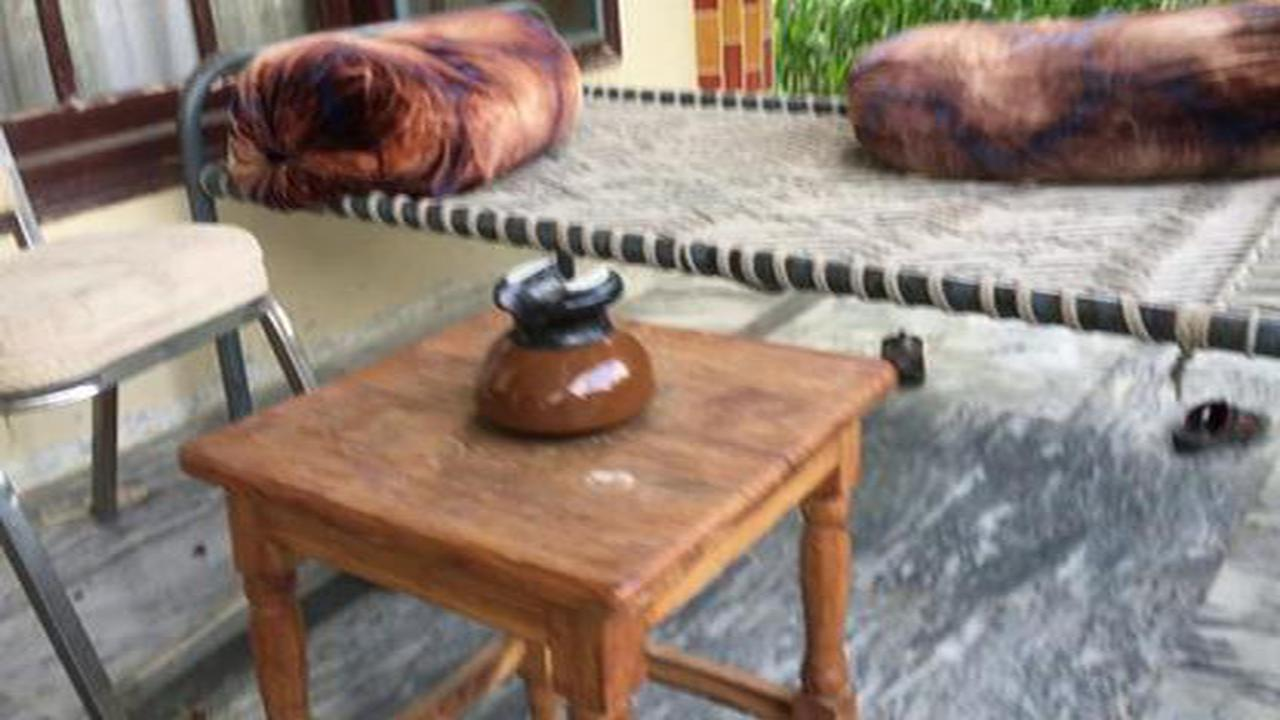insulator_pin: (447, 240, 671, 459)
